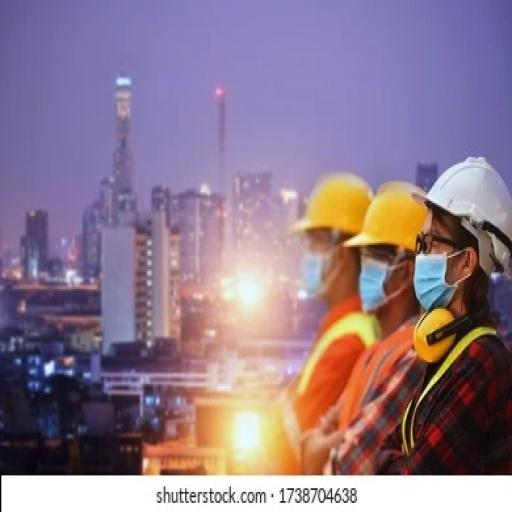mask: (412, 249, 454, 310), (358, 260, 397, 311), (299, 254, 328, 299)
